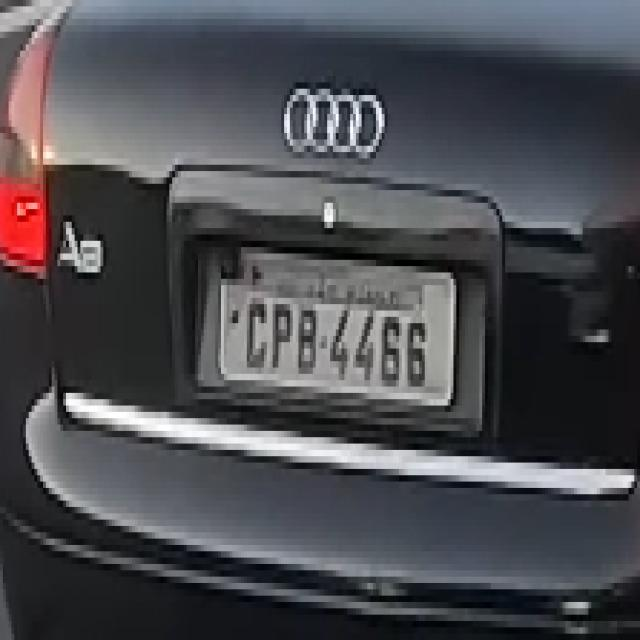Placa_mercosul_carro: (218, 243, 456, 410)
